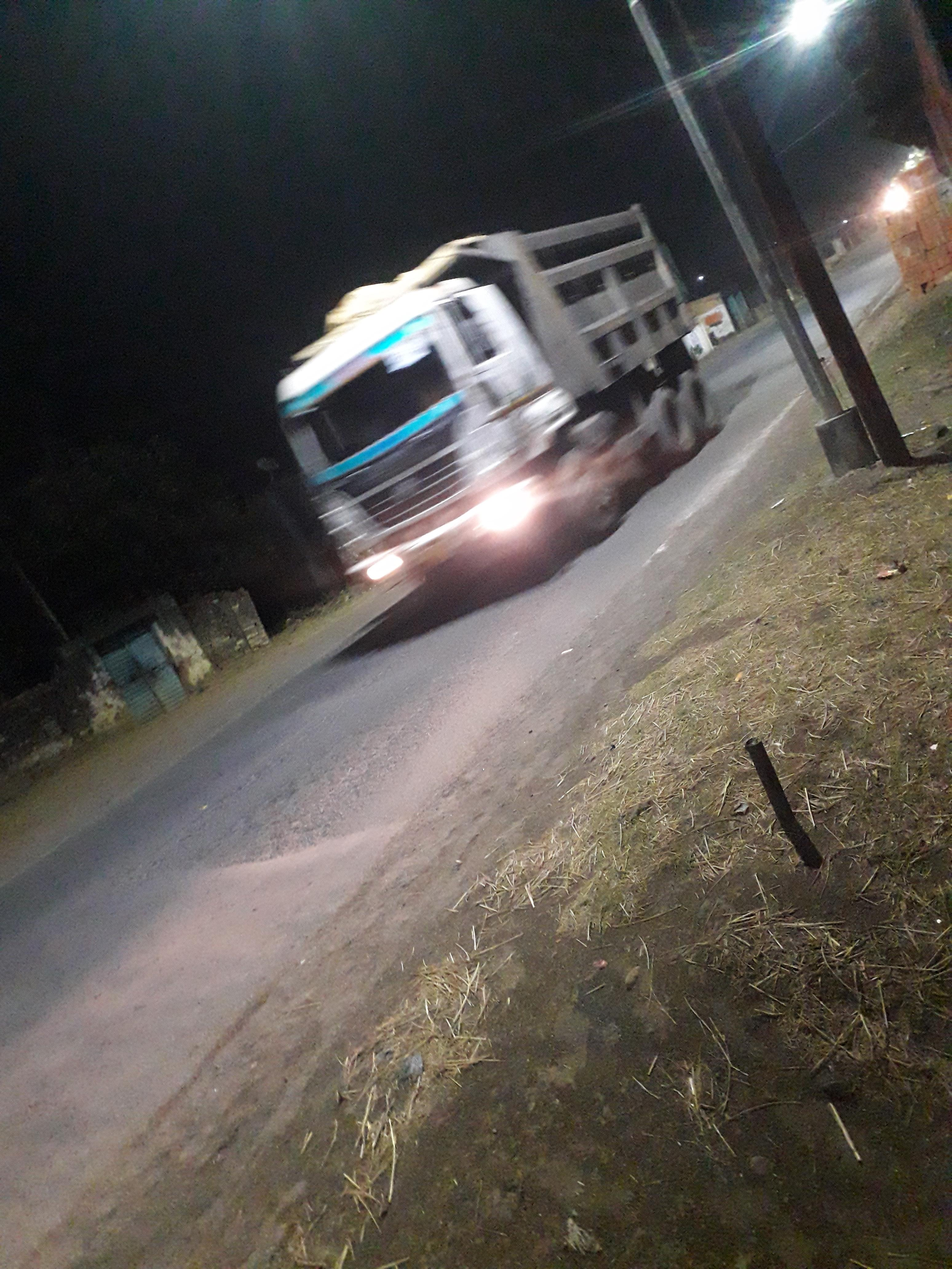Non-emergency: (262, 183, 764, 646)
